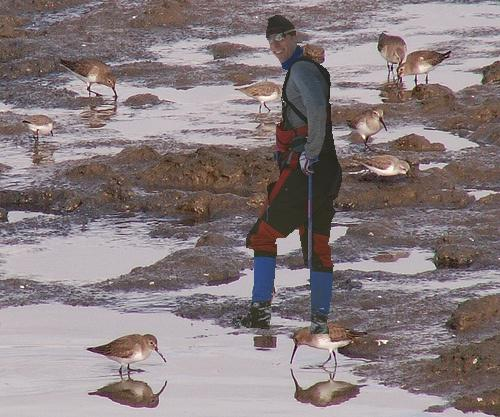tampered: (233, 16, 342, 334)
